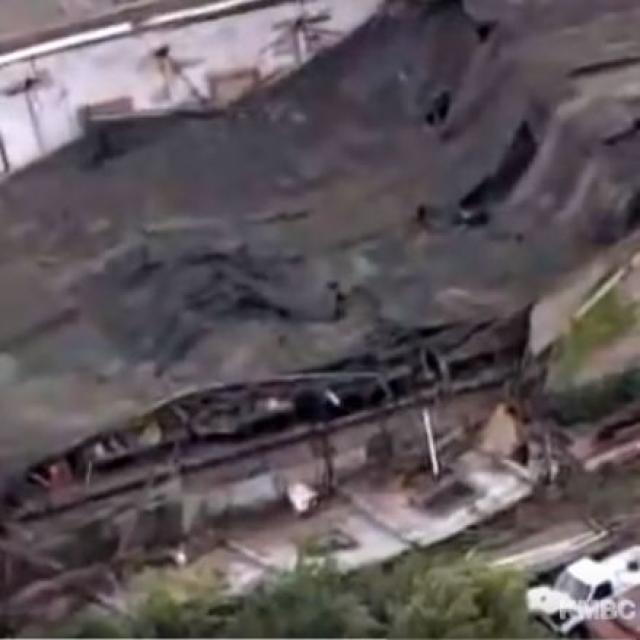collapsed_building: (0, 90, 605, 582)
